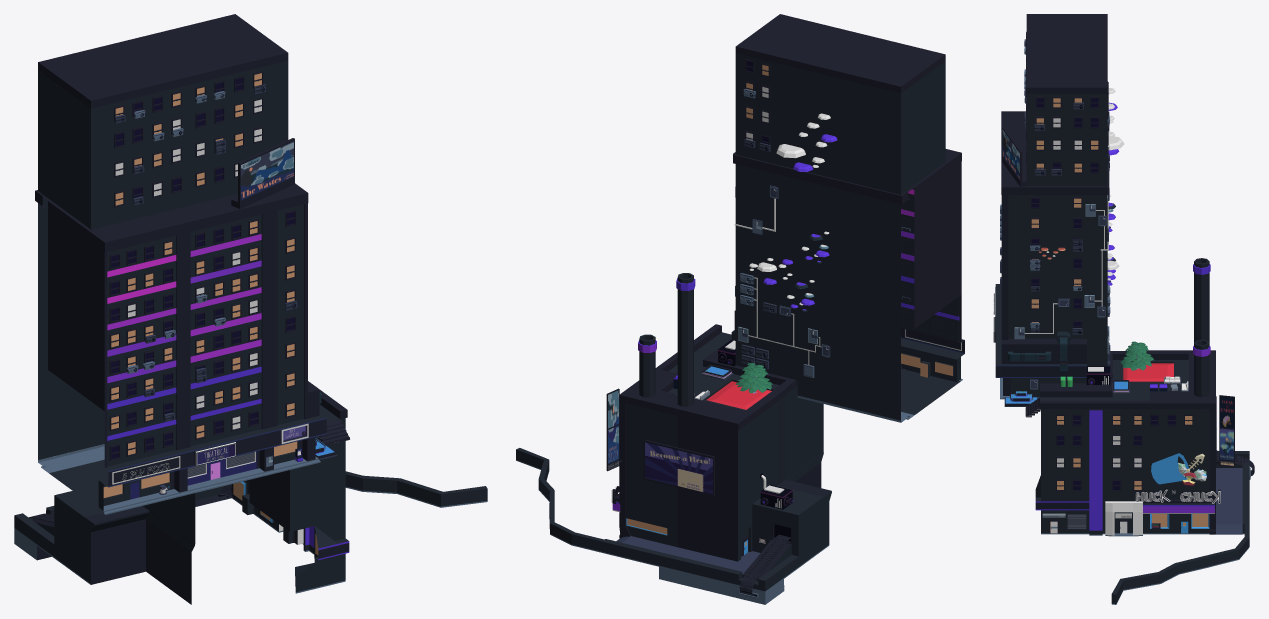
The model's file is Building_HuckNChuck.fbx.
3 renders of one model, left to right at view 1: azimuth 30°, elevation 25°; view 2: azimuth 150°, elevation 25°; view 3: azimuth 270°, elevation 25°, orthographic. The views are drawn at different scales.
Parts seen in each view (by area): view 1: Cube.1024, Cube.1224, Cube.1265, Apartment 04.043, Apartment 04.009; view 2: Cube.1024, Cube.1224, Cube.1267, Cube.1232, Cylinder.395, Cube.1226, Cylinder.389, Cube.838, Apartment 04.021; view 3: Cube.1024, Cube.1224, Cube.1232, Cube.1265, Text.053, Text.050, Cylinder.389, Apartment 04.012, Text.051, Apartment 04.010, Cube.1262, Cylinder.395 (+1 smaller).
Part boxes in pixels (x1,y1,x2,y2): Cube.1024: (35, 14, 326, 514); Cube.1224: (14, 381, 487, 604); Cube.1265: (231, 138, 294, 208); Apartment 04.043: (126, 294, 297, 421); Apartment 04.009: (115, 84, 265, 205); Cube.1024: (731, 14, 964, 422); Cube.1224: (516, 273, 831, 604); Cube.1267: (643, 439, 714, 496); Cube.1232: (606, 388, 622, 471); Cylinder.395: (776, 113, 837, 171); Cube.1226: (739, 534, 790, 595); Cylinder.389: (735, 362, 772, 393); Cube.838: (760, 473, 792, 509); Apartment 04.021: (738, 277, 821, 364); Cube.1024: (993, 14, 1109, 399); Cube.1224: (1035, 258, 1250, 604); Cube.1232: (1216, 395, 1234, 467); Cube.1265: (1002, 127, 1027, 186); Text.053: (1151, 453, 1188, 484); Text.050: (1135, 489, 1220, 503); Cylinder.389: (1120, 341, 1153, 370); Apartment 04.012: (1030, 239, 1082, 334); Text.051: (1135, 488, 1220, 502); Apartment 04.010: (1084, 198, 1108, 317); Cube.1262: (1086, 366, 1112, 384); Cylinder.395: (1108, 87, 1124, 155).
Bounding box in the file's own units: 5229 × 6204 × 3391.
